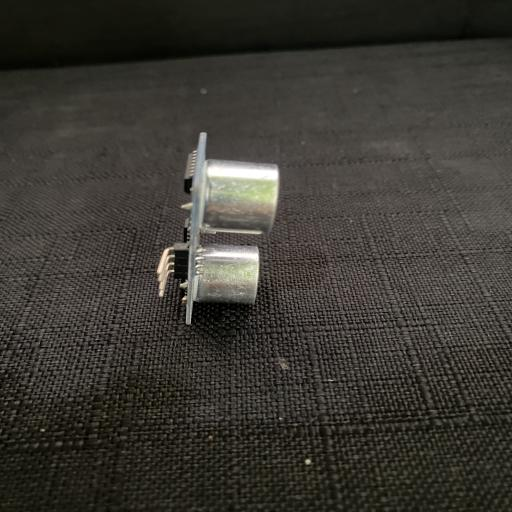Ultrasonic Sensor: (156, 132, 281, 325)
